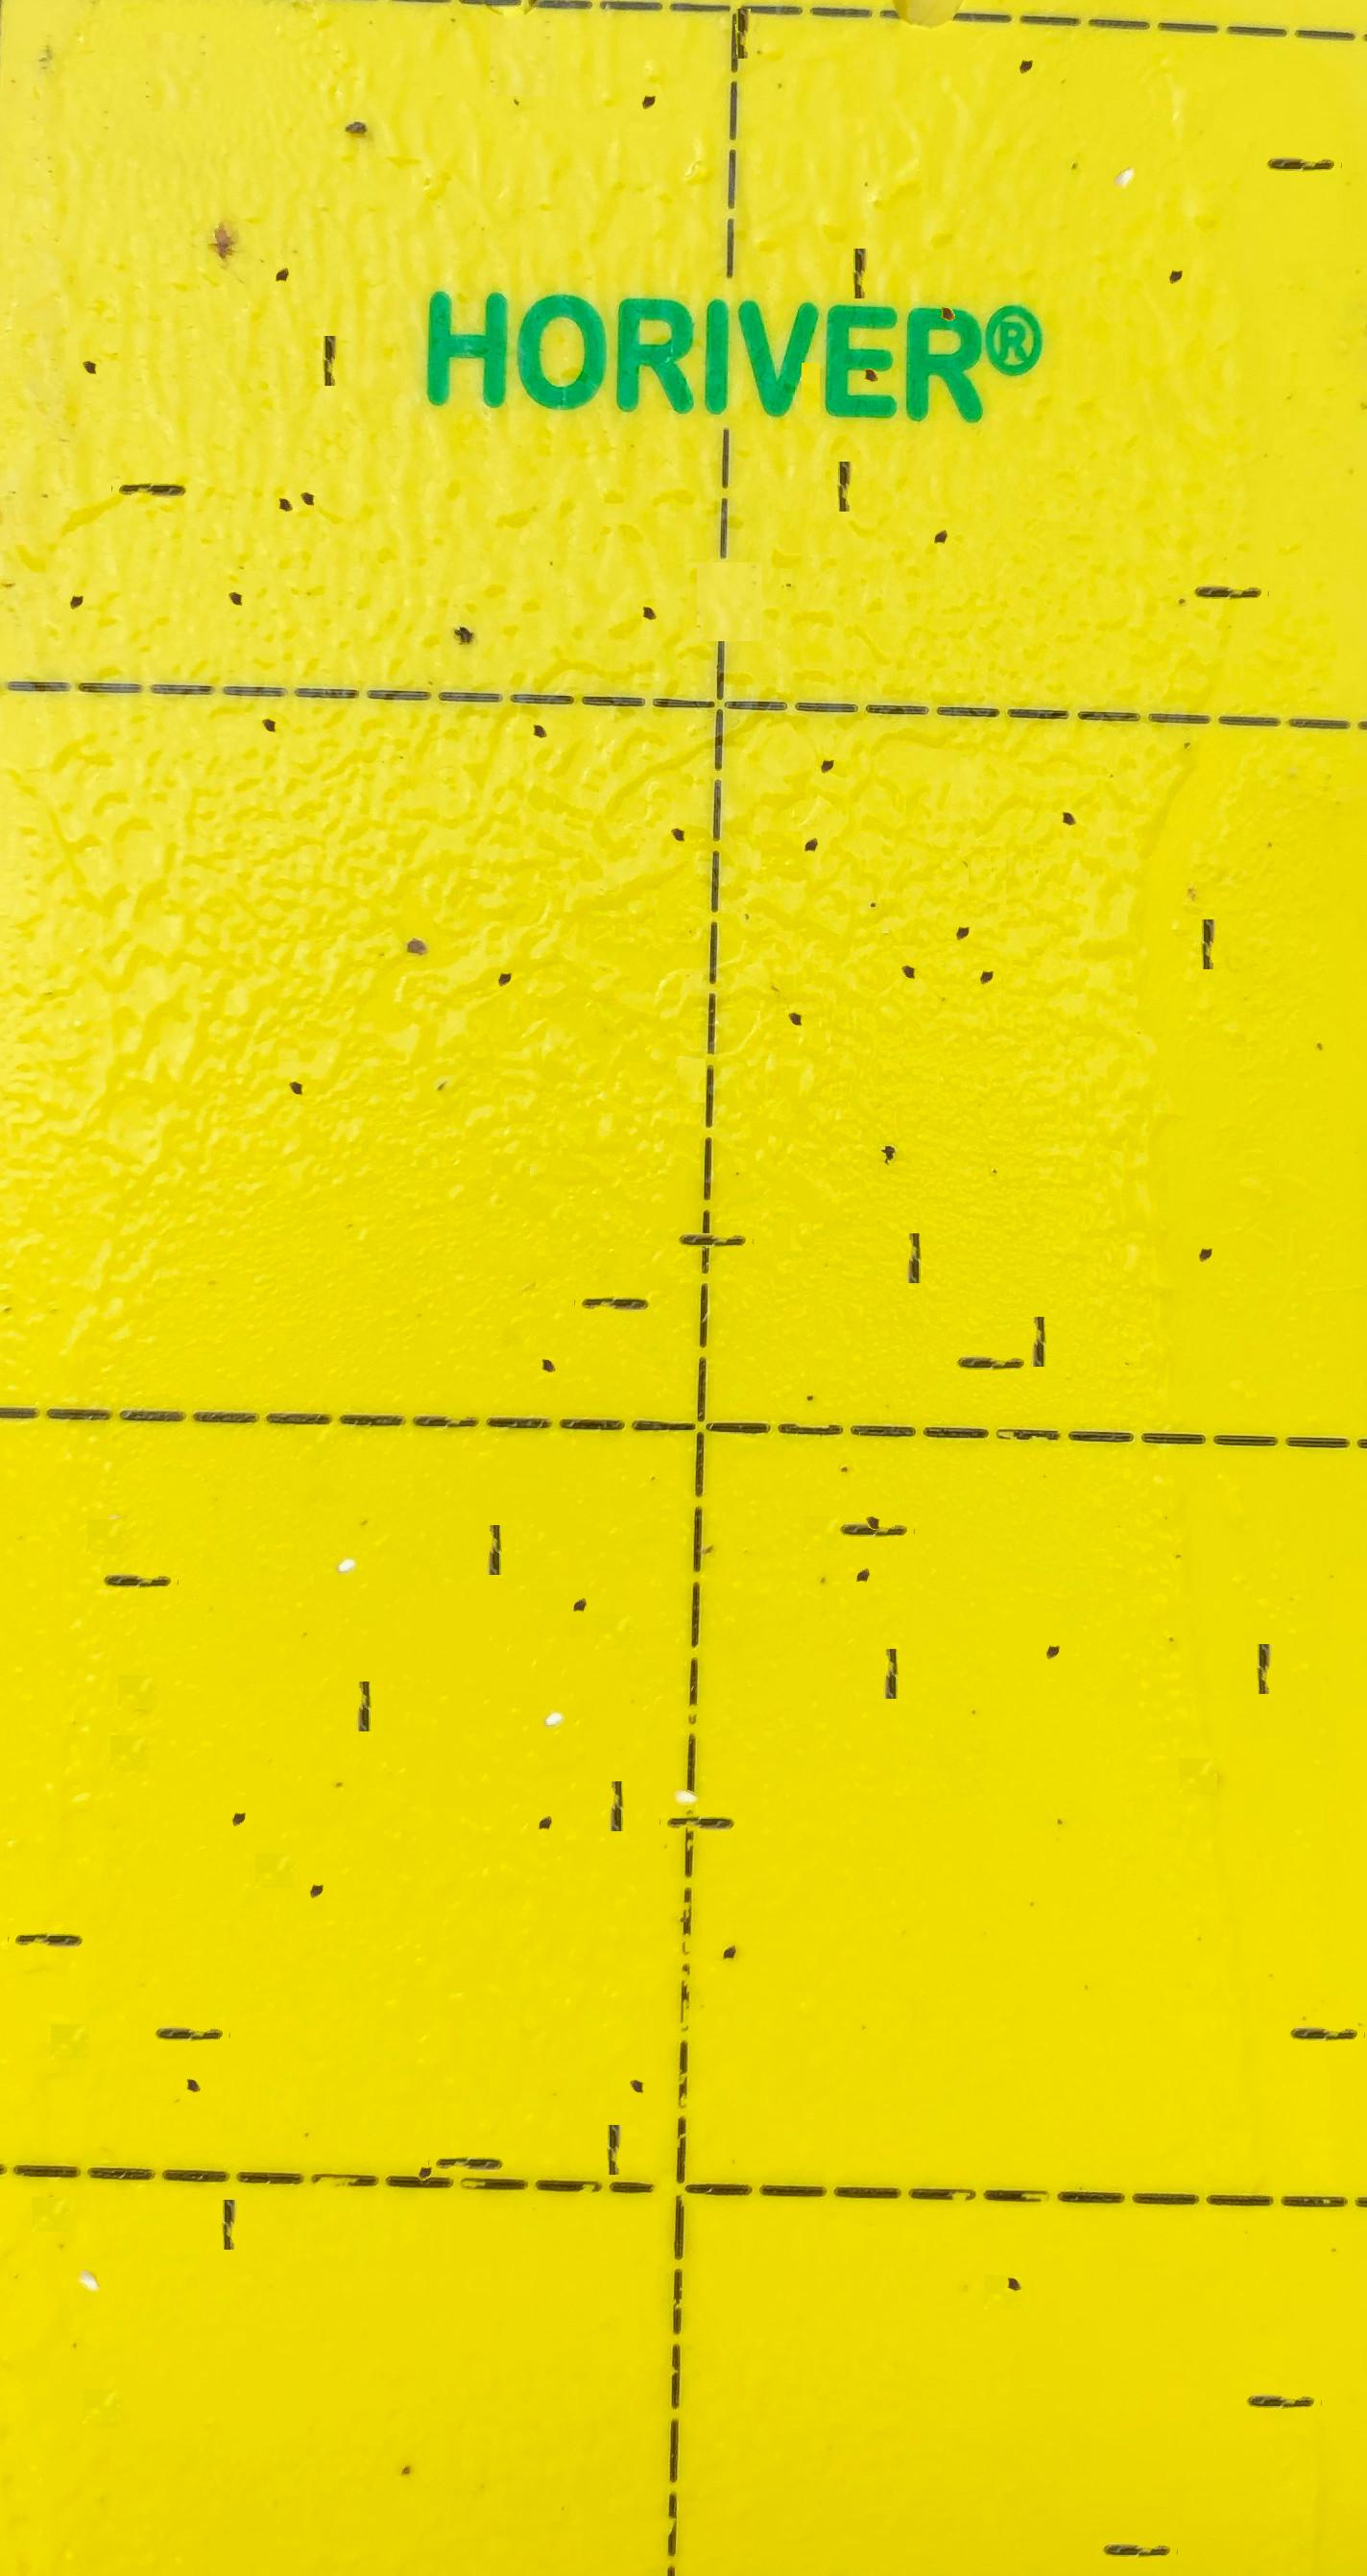white_fly: (326, 1494, 368, 1542), (534, 1647, 576, 1695), (66, 2215, 109, 2259), (1103, 114, 1145, 157), (665, 1739, 706, 1777)
